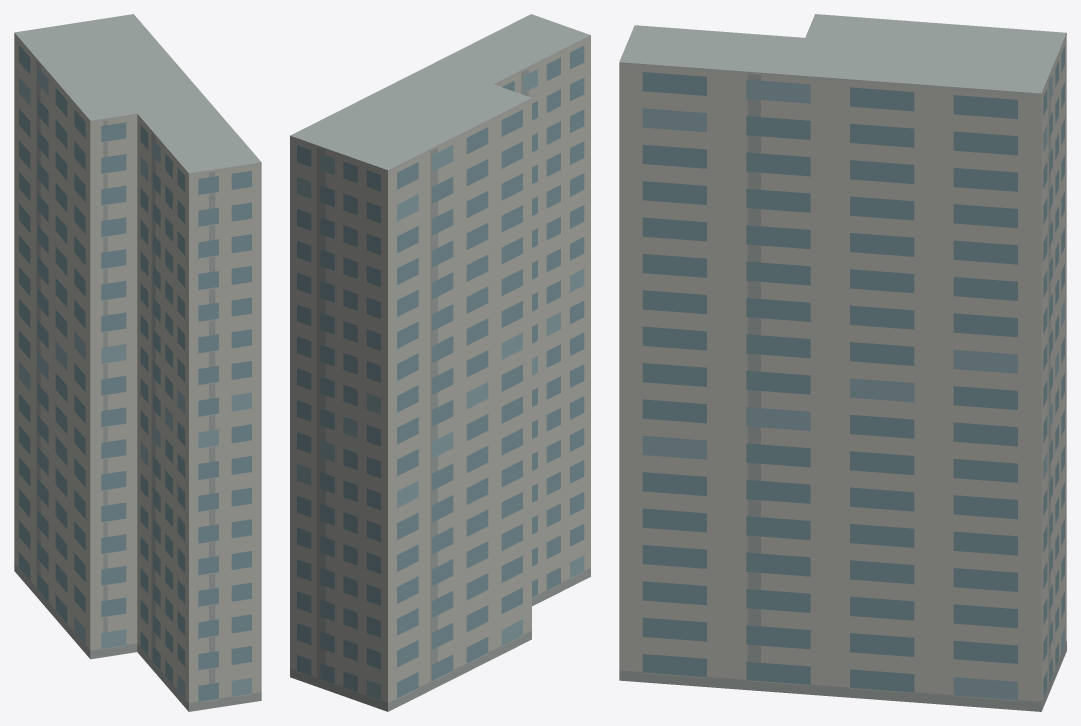
File: residential-ee62f788-7d4f-476d-8466-5c1388b9df5c.glb
The picture shows the model from 3 angles, left to right: view 1: azimuth 30°, elevation 25°; view 2: azimuth 150°, elevation 25°; view 3: azimuth 270°, elevation 25°; orthographic projection. The views are drawn at different scales.
Parts seen in each view (by area): view 1: residential-ee62f788-7d4f-476d-8466-5c1388b9df5c.tmp; view 2: residential-ee62f788-7d4f-476d-8466-5c1388b9df5c.tmp; view 3: residential-ee62f788-7d4f-476d-8466-5c1388b9df5c.tmp.
Part boxes in pixels (bbox=[...]): residential-ee62f788-7d4f-476d-8466-5c1388b9df5c.tmp: bbox=[14, 14, 261, 711]; residential-ee62f788-7d4f-476d-8466-5c1388b9df5c.tmp: bbox=[290, 14, 590, 711]; residential-ee62f788-7d4f-476d-8466-5c1388b9df5c.tmp: bbox=[619, 14, 1066, 711].
Size of the model in its own units: 16.55 by 60 by 39.36.
